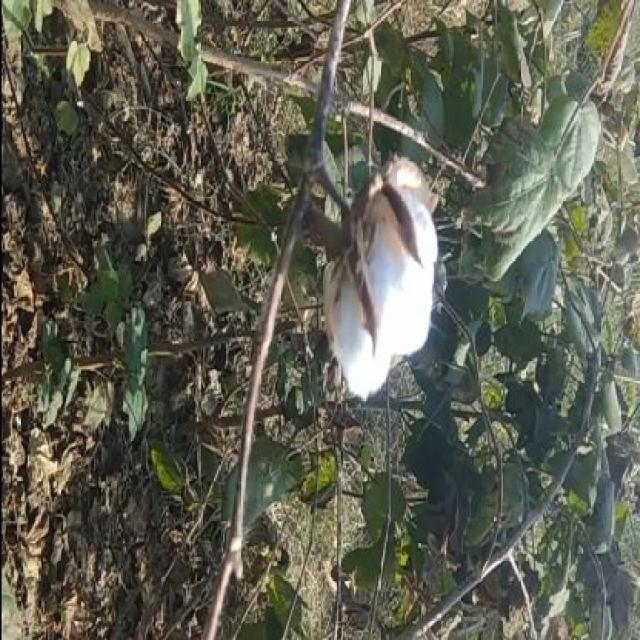cotton_ready: (294, 157, 451, 408)
